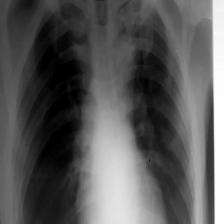tuberculosis: (12, 0, 198, 224)
